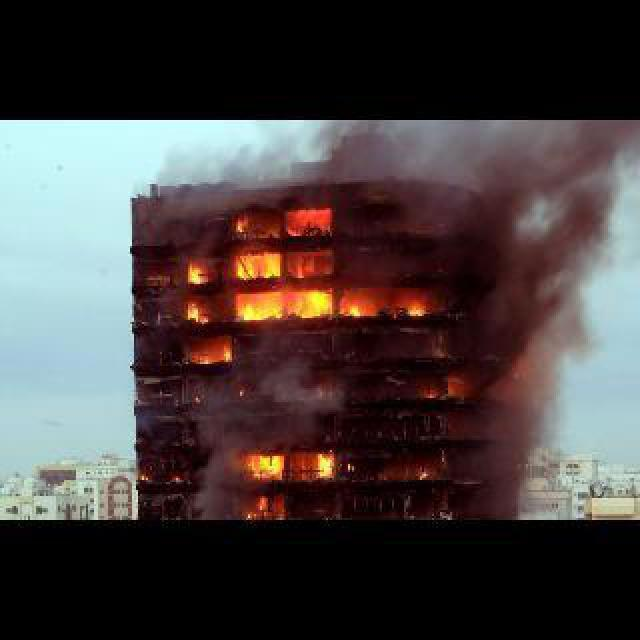Fire: (158, 208, 422, 362), (240, 452, 336, 518), (414, 464, 430, 486)
Smoke: (452, 124, 620, 518), (146, 120, 450, 204), (182, 386, 240, 518)
